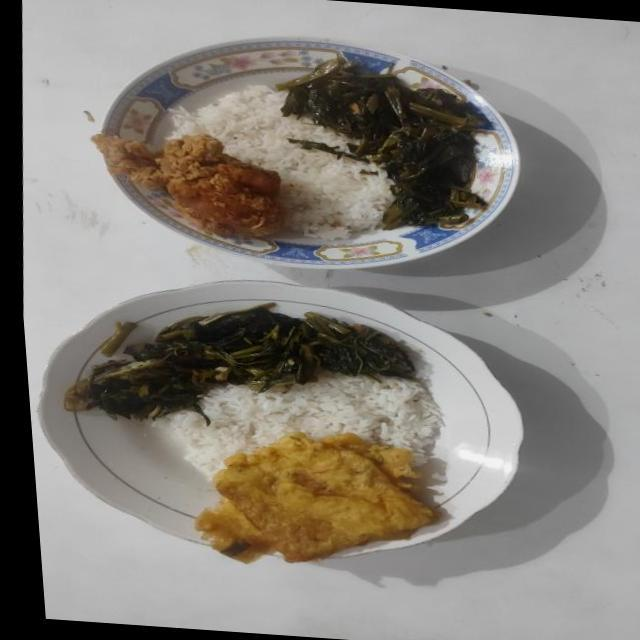nasi_putih: (174, 84, 392, 240), (165, 371, 444, 476)
tumis_kangkung: (63, 302, 414, 426), (276, 58, 487, 229)
